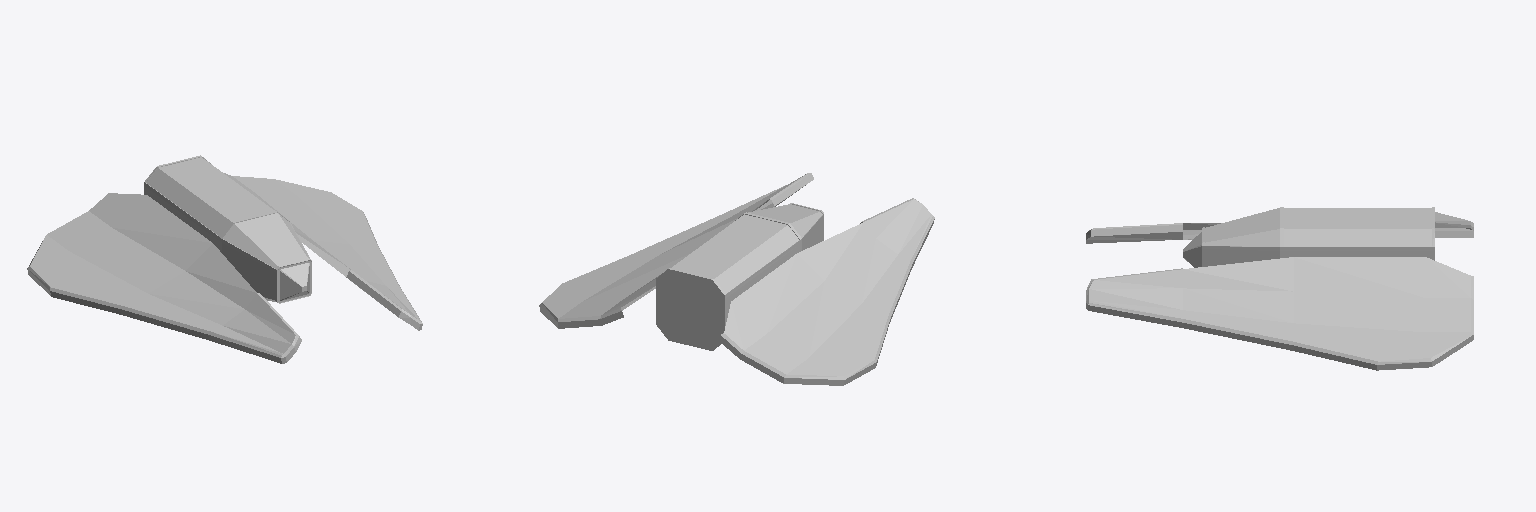
The model's file is Player_Ship4.obj.
3 views of the same model, side by side, from view 1: azimuth 30°, elevation 25°; view 2: azimuth 150°, elevation 25°; view 3: azimuth 270°, elevation 25° (orthographic).
Visible parts, largest first — view 1: Player_Ship; view 2: Player_Ship; view 3: Player_Ship.
Boxes of the visible parts, x1,y1,x2,y2 form: Player_Ship: [27, 155, 422, 363]; Player_Ship: [539, 173, 934, 385]; Player_Ship: [1086, 207, 1473, 370].
Bounding box in the file's own units: 9.67 × 2.25 × 10.31.